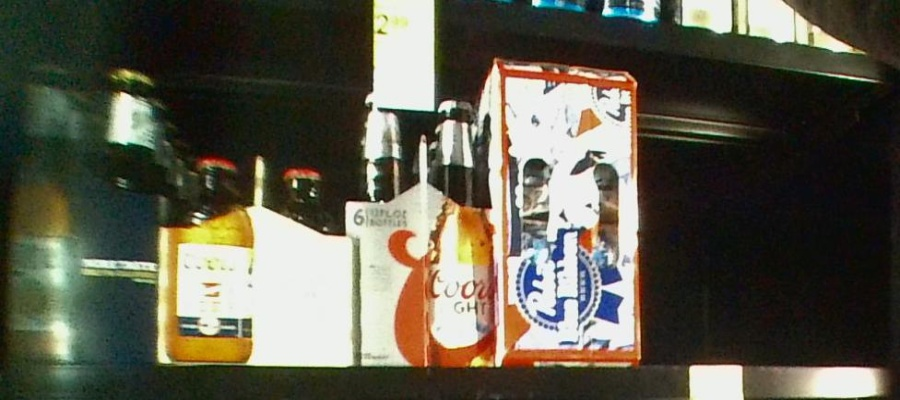bottle: (1, 58, 162, 365), (493, 59, 642, 365), (163, 156, 359, 367), (353, 91, 494, 369)
